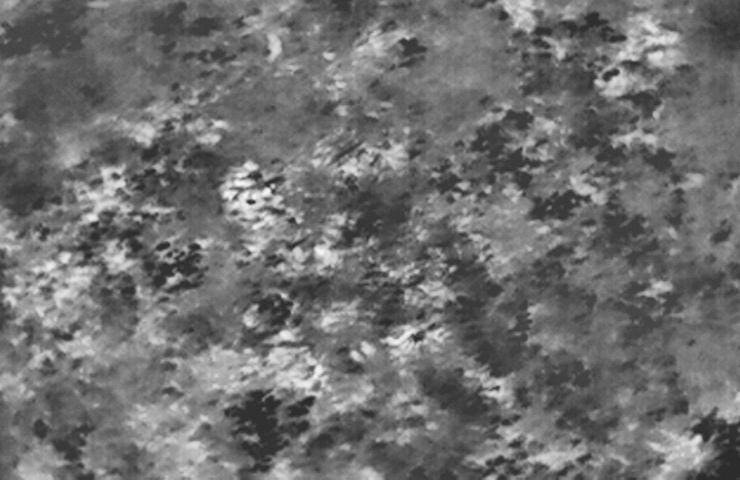landmines: (220, 161, 302, 246)
